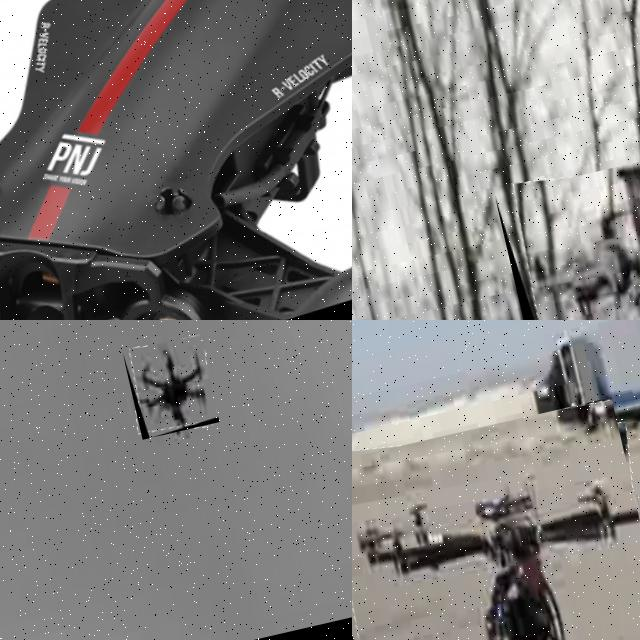drone: (0, 0, 352, 320), (352, 396, 640, 640), (494, 135, 640, 320), (122, 334, 220, 439)
